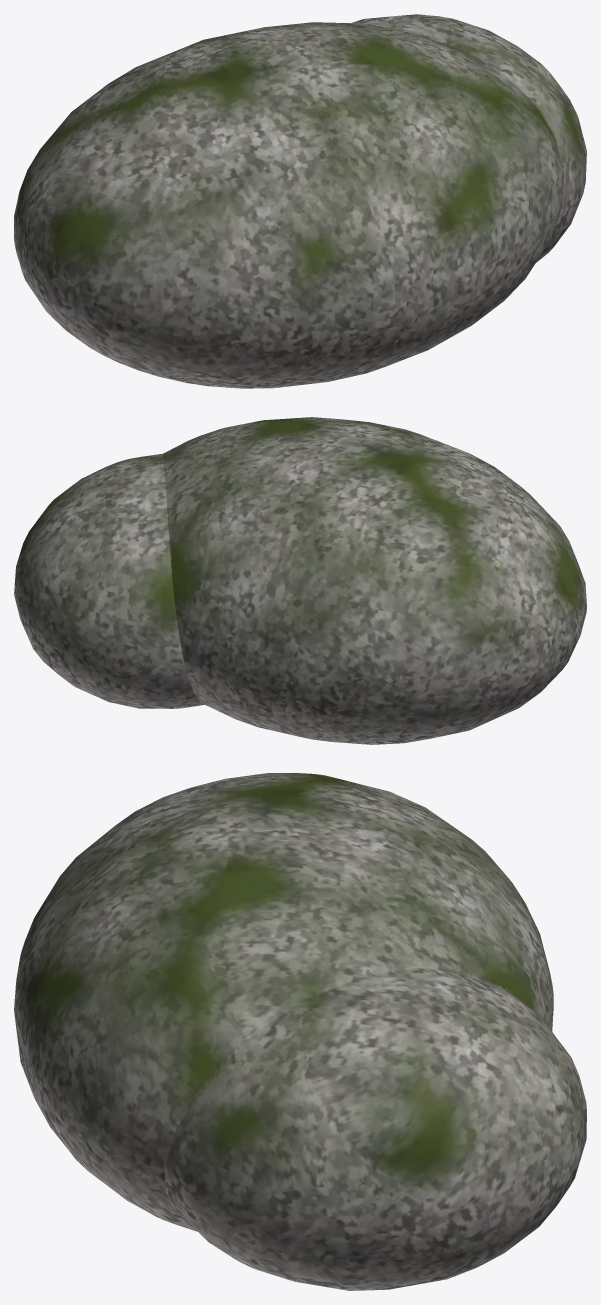
The model's file is rock.glb.
3 renders of one model, top to bottom at view 1: azimuth 30°, elevation 25°; view 2: azimuth 150°, elevation 25°; view 3: azimuth 270°, elevation 25°, orthographic. The views are drawn at different scales.
Parts seen in each view (by area): view 1: rock; view 2: rock; view 3: rock.
Part boxes in pixels (x1,y1,x2,y2): rock: (14,14,586,388); rock: (14,417,586,744); rock: (14,773,586,1290).
Size of the model in its own units: 1.15 by 0.599 by 0.848.
1 material, 1 textured.
